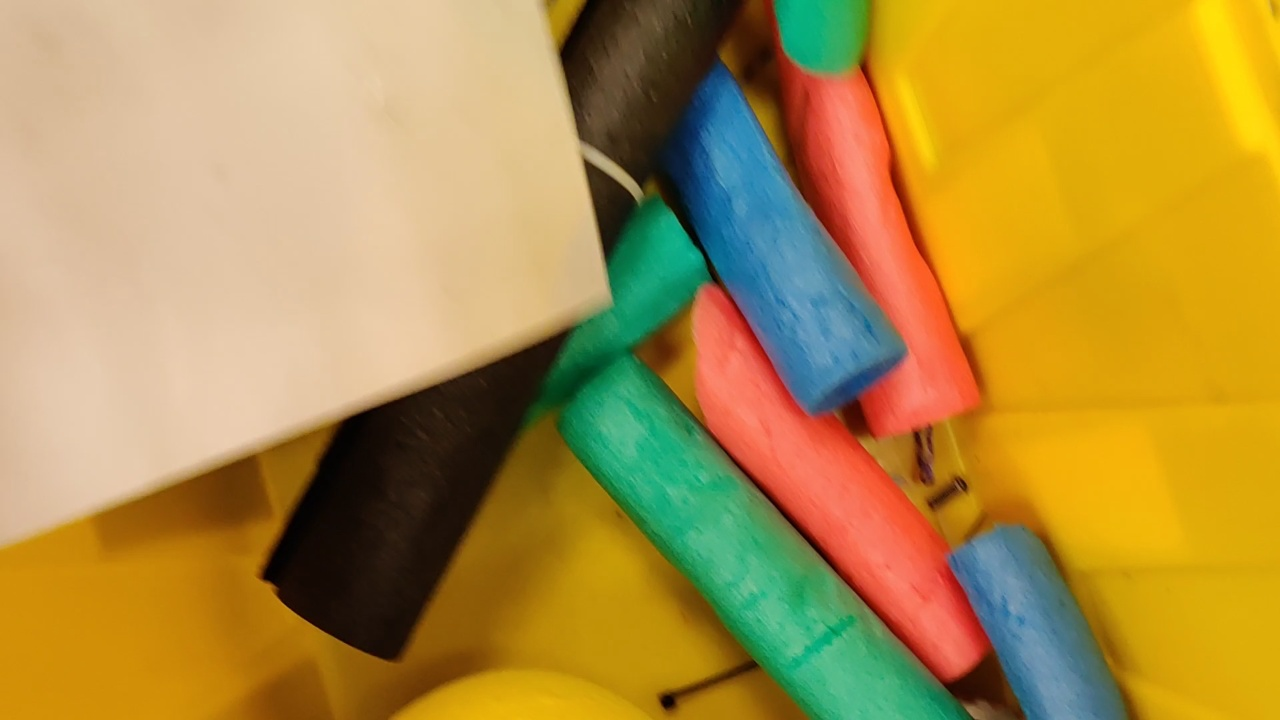Ball: (380, 669, 652, 720)
